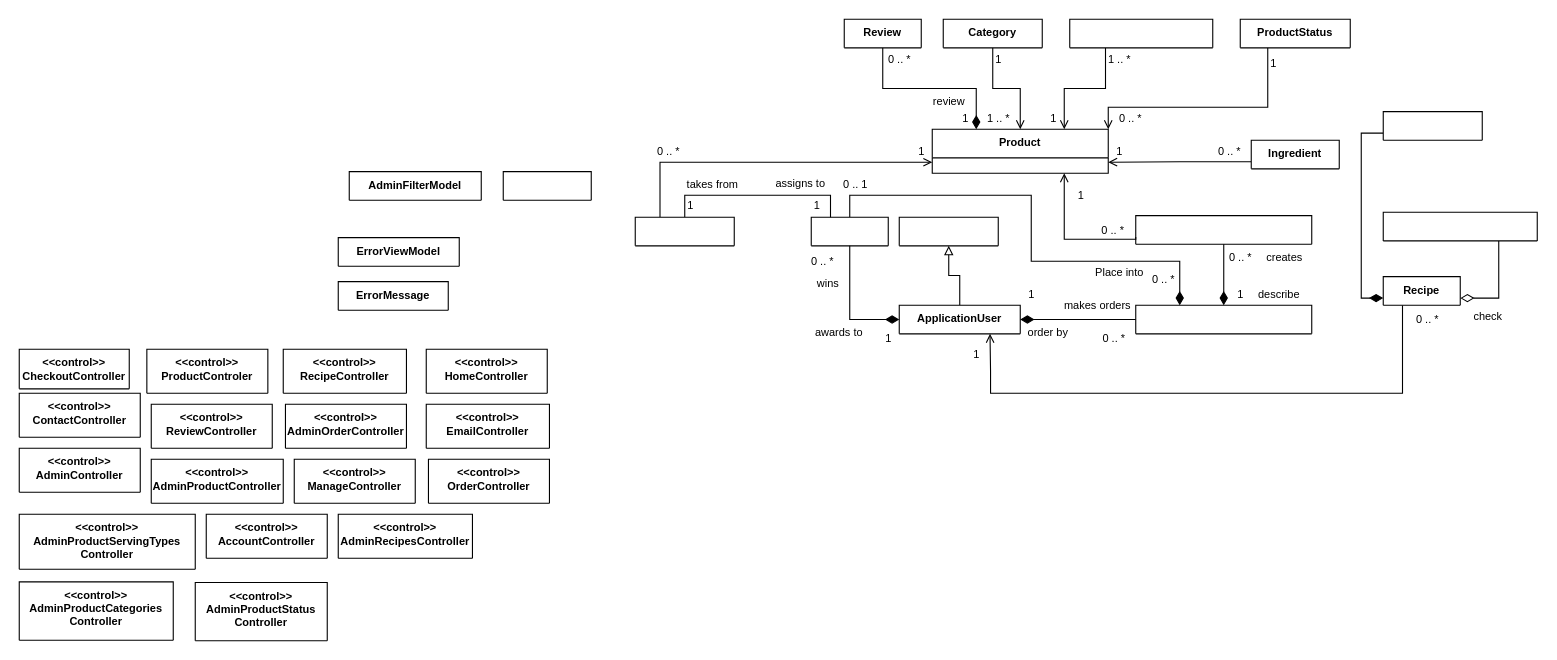
This 1557x660 diagram has some shape labels left out. Each missing label, with the centre of its shape:
"IdentityUser" goes at (x=948, y=231).
"Order" goes at (x=1223, y=319).
"OrderDetails" goes at (x=1223, y=229).
"ProductServingType" goes at (x=1141, y=33).
"RecipeApprovalStatus" goes at (x=1459, y=226).
"RecipeSteps" goes at (x=1432, y=125).
"Reward" goes at (x=849, y=231).
"RewardPool" goes at (x=684, y=231).
"SeedData" goes at (x=546, y=185).
